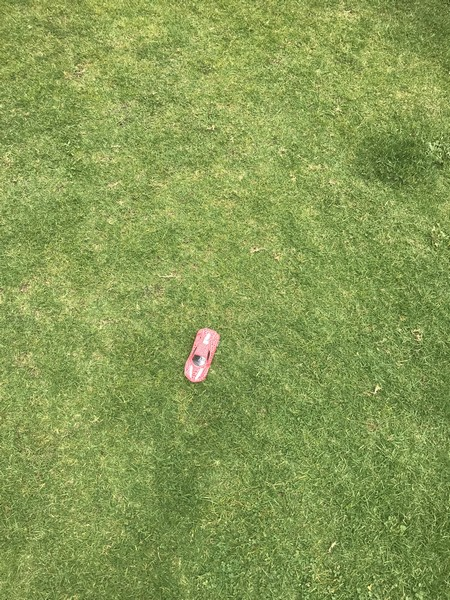RC: (183, 325, 220, 385)
